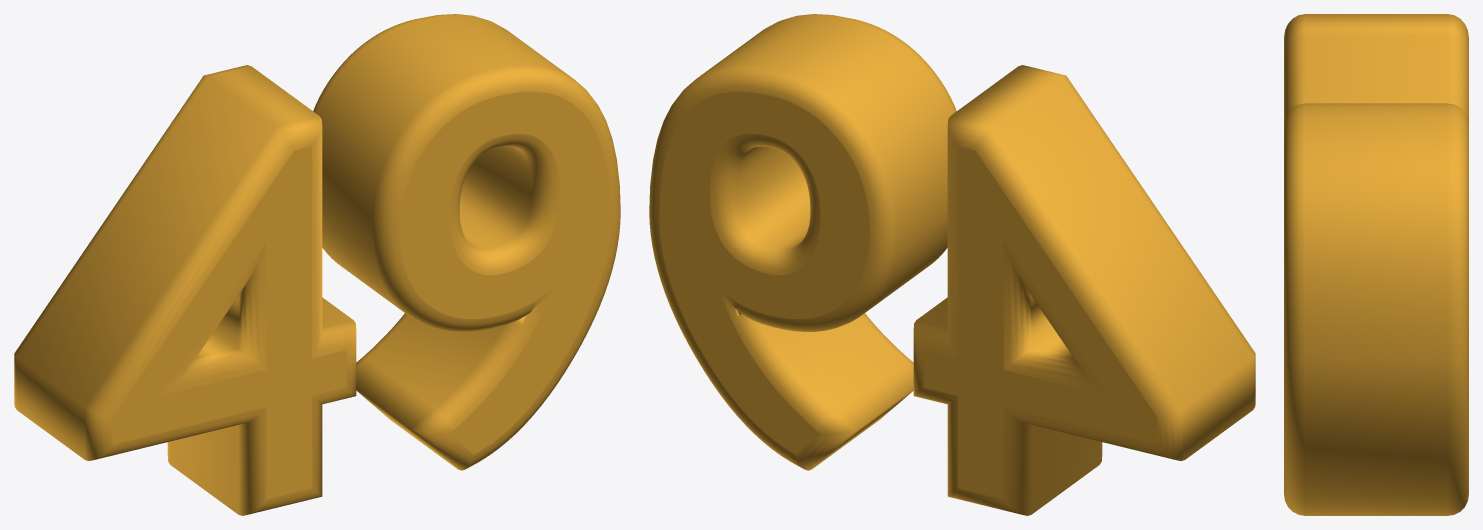
3 renders of one model, left to right at view 1: azimuth 30°, elevation 25°; view 2: azimuth 150°, elevation 25°; view 3: azimuth 270°, elevation 25°, orthographic. The views are drawn at different scales.
Visible parts, largest first — view 1: Text; view 2: Text; view 3: Text.
Part boxes in pixels (x1,y1,x2,y2): Text: (14, 14, 620, 515); Text: (649, 14, 1255, 515); Text: (1284, 14, 1468, 515).
Size of the model in its own units: 90.49 by 63.6 by 26.
